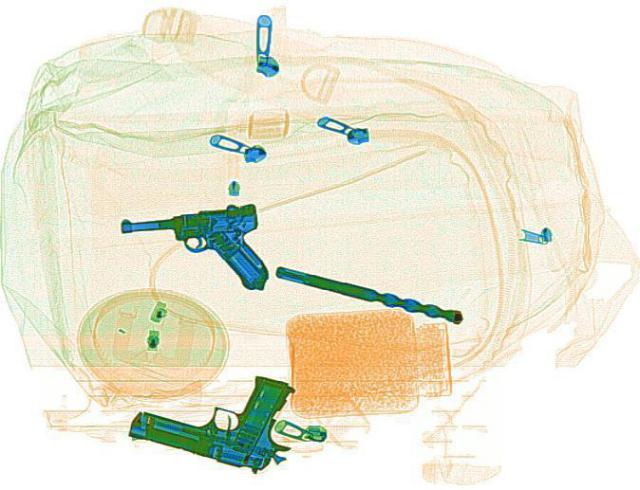Gun: (120, 347, 318, 476), (116, 199, 274, 303)
